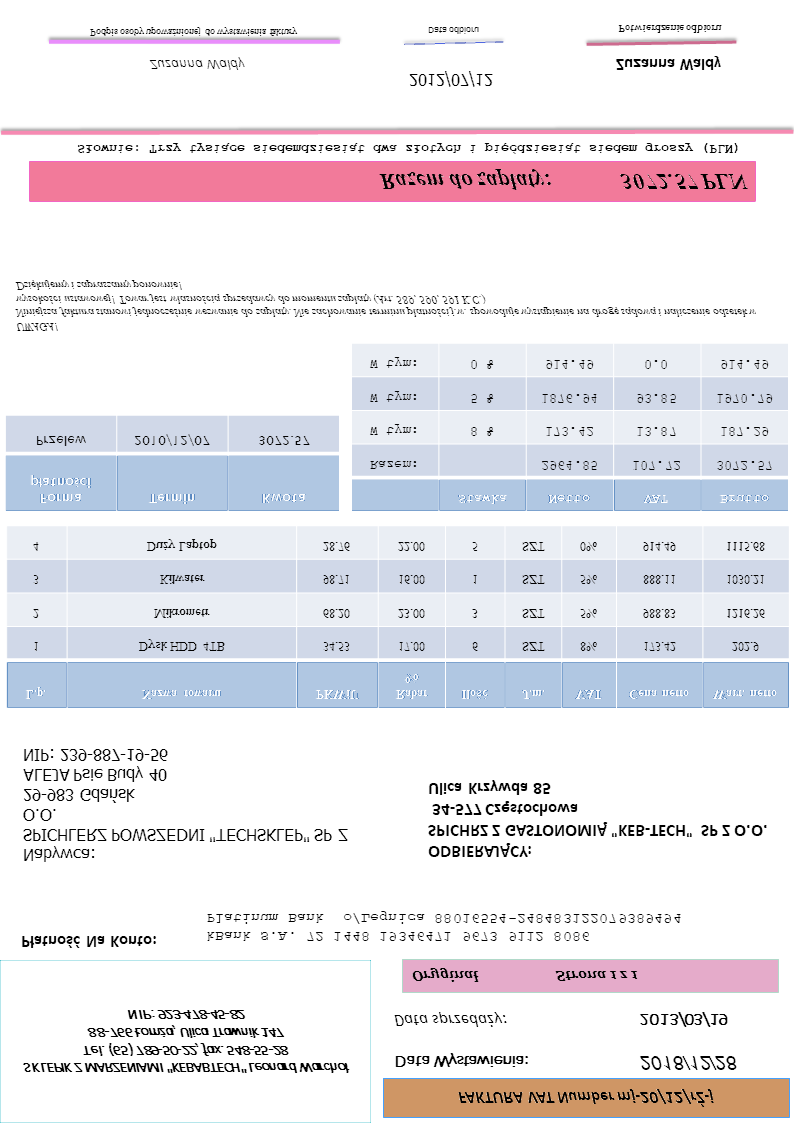Table: (4, 523, 792, 713), (349, 342, 791, 515), (4, 414, 341, 515)
TextBox: (13, 277, 761, 336), (20, 744, 351, 866), (423, 777, 770, 862), (20, 1004, 354, 1078), (202, 909, 685, 947), (74, 140, 741, 158), (375, 167, 751, 197), (409, 963, 641, 987), (455, 1087, 718, 1108), (86, 24, 301, 42), (391, 1049, 532, 1074), (388, 1009, 511, 1033), (18, 932, 161, 951), (637, 1049, 739, 1075), (611, 54, 725, 77), (616, 19, 724, 40), (144, 55, 248, 76), (403, 69, 495, 92), (635, 1009, 731, 1030), (424, 21, 482, 41)
